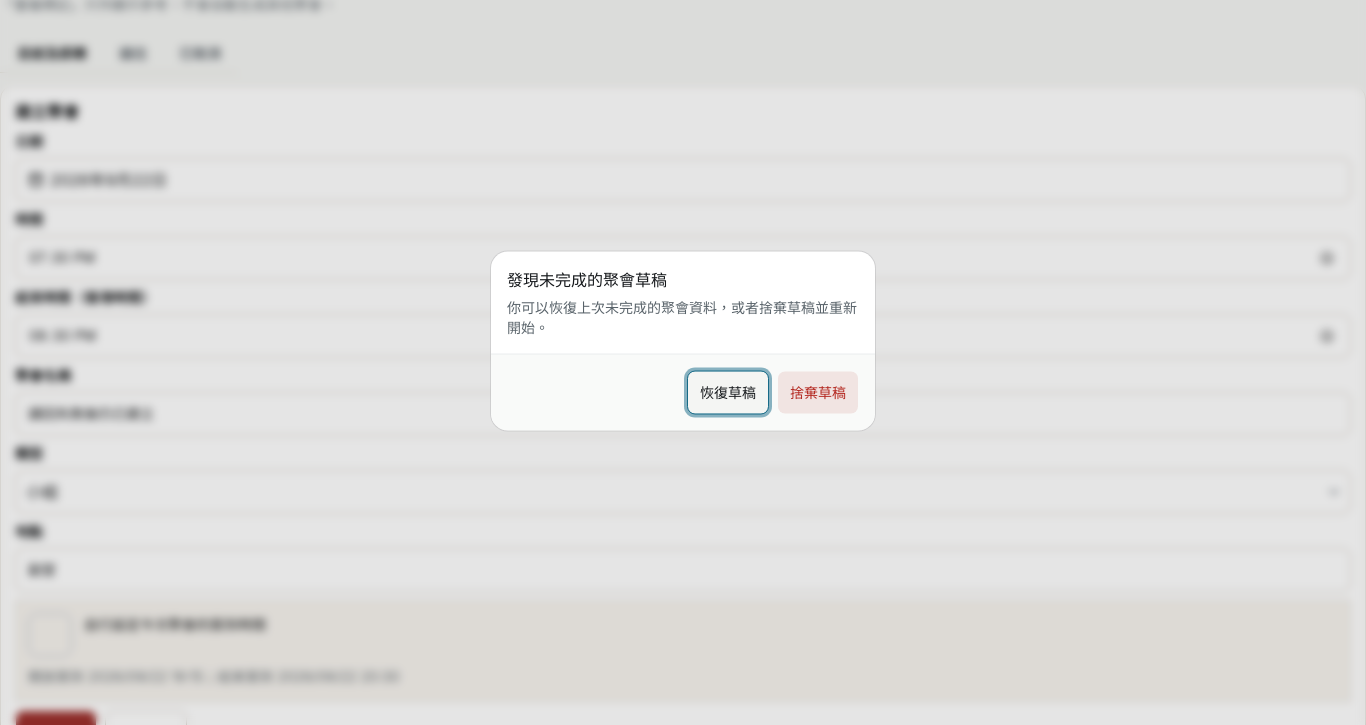
EventsTask operations-first composition › keeps confirmed create success visible when Event readback fails
Click the button "恢復草稿".
click(728, 392)  # box x1=687 y1=370 x2=769 y2=414
(page scrolled)
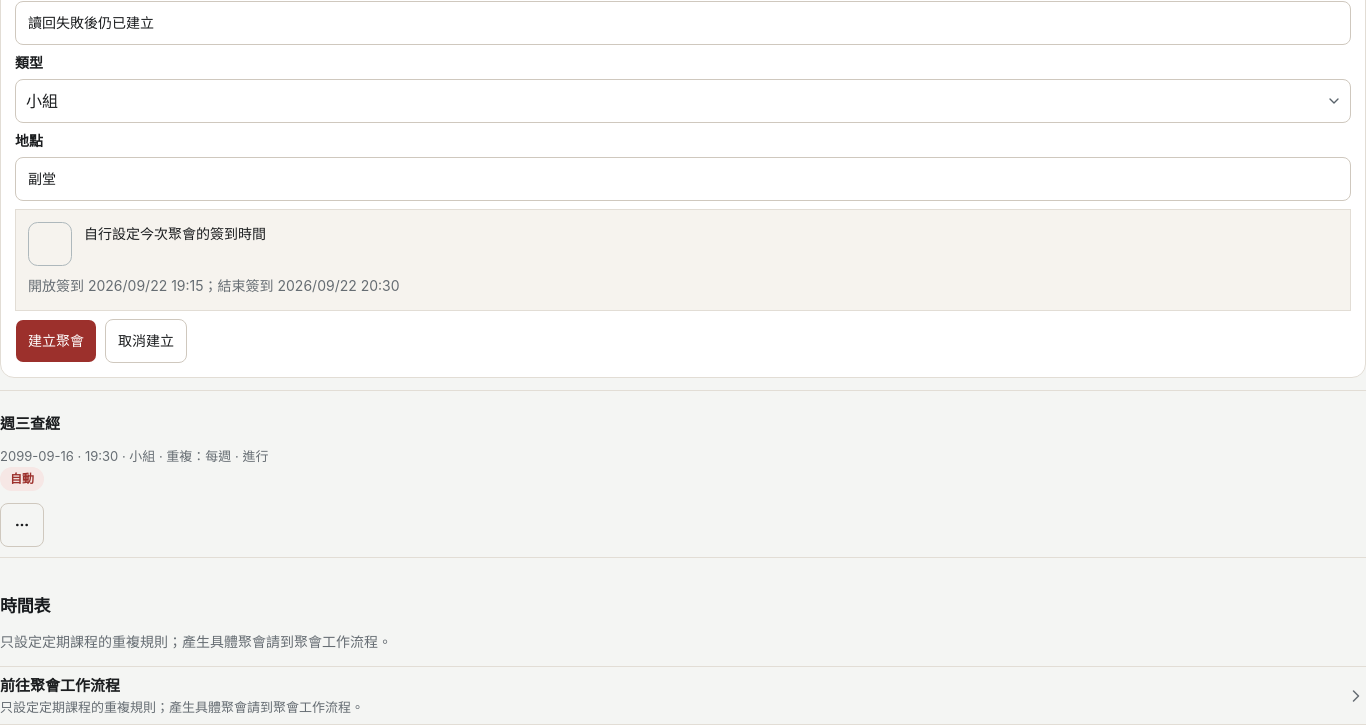
Click the button "建立聚會".
click(56, 341)  # box x1=15 y1=319 x2=97 y2=363
(page scrolled)
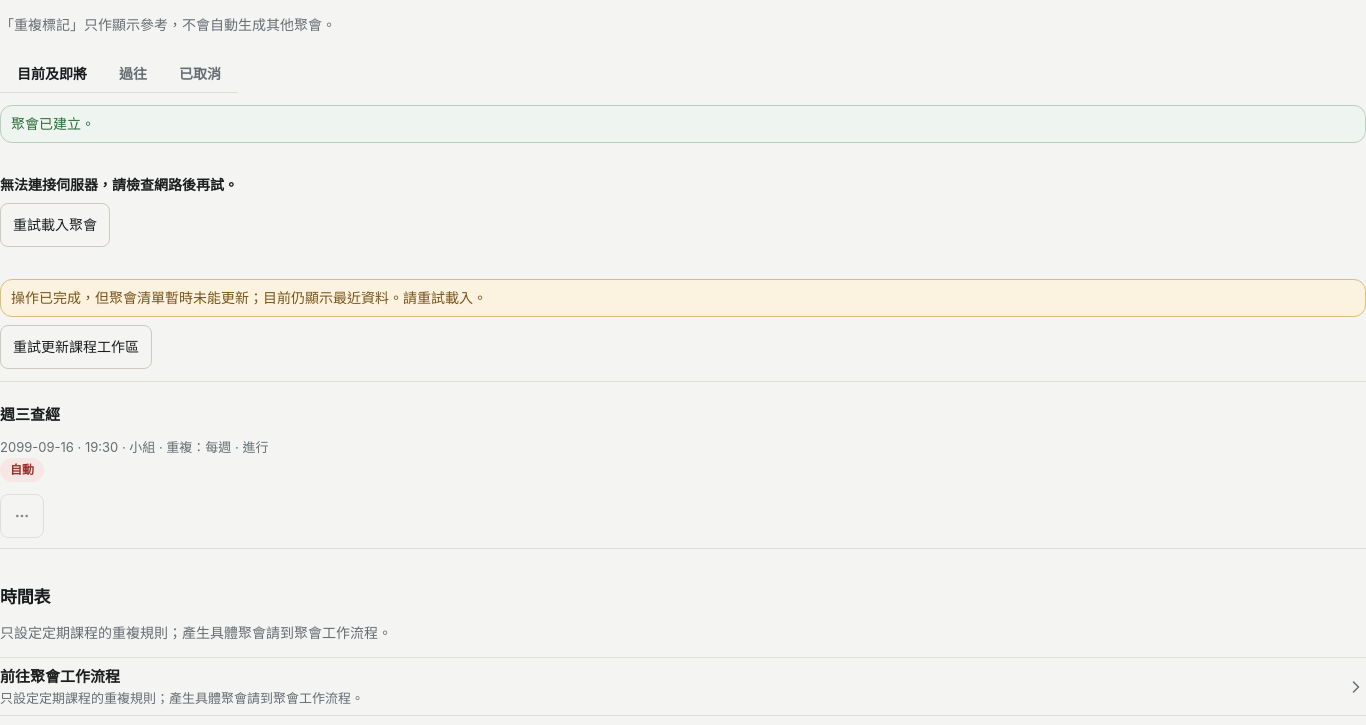
Now the text "聚會已建立。" is shown, box x1=0 y1=105 x2=1365 y2=143
Now the text "操作已完成，但聚會清單暫時未能更新；目前仍顯示最近資料。請重試載入。" is shown, box x1=0 y1=279 x2=1365 y2=317
